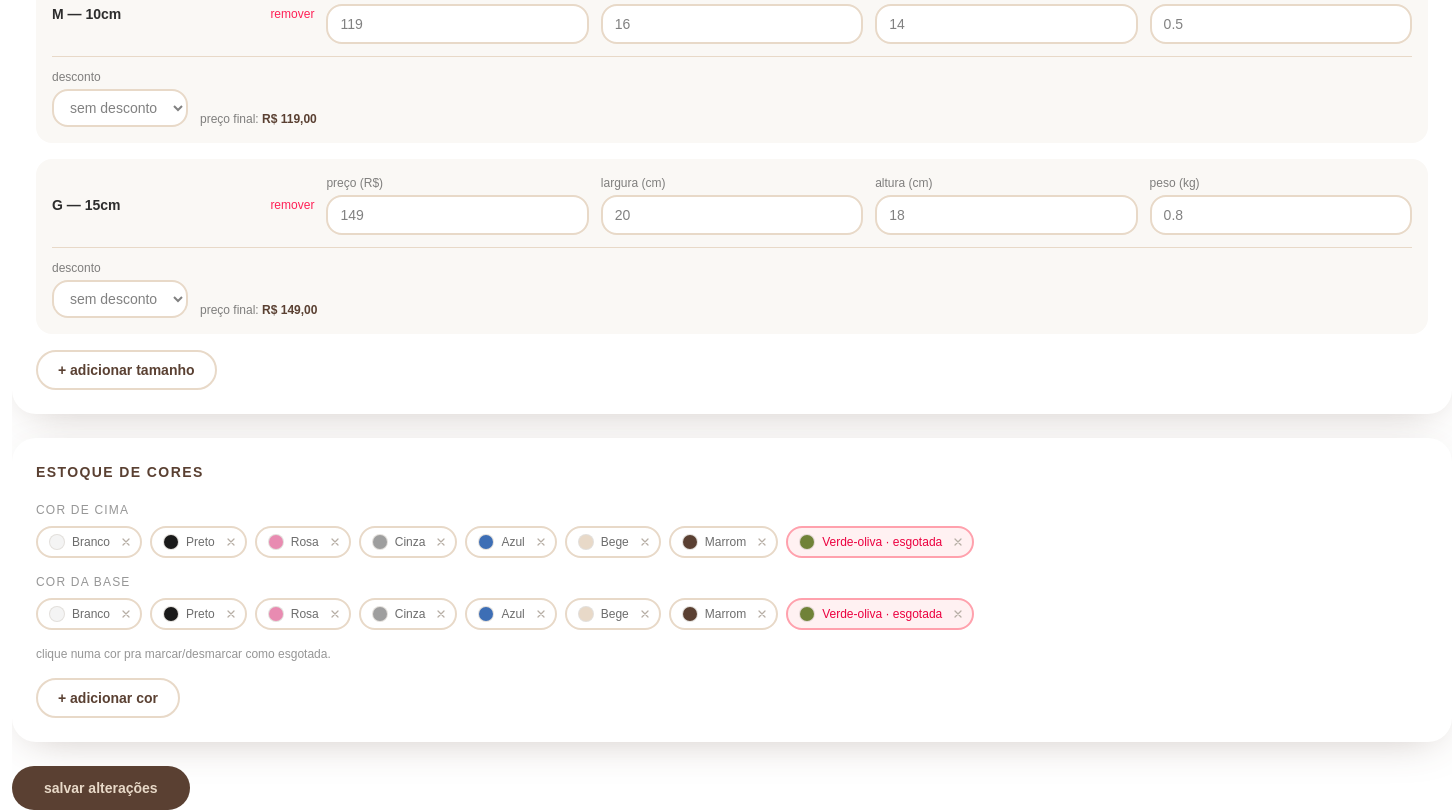
ProdutoForm — cores › clicar numa cor alterna esgotado/disponível (sem fetch, é estado local até salvar)
(page scrolled)
// "Branco" existe 2x (color_base e color_band usam a mesma paleta) — pega a primeira
Click the button "Branco" below "Cor de cima" at (80, 542), box [50, 534, 110, 550]
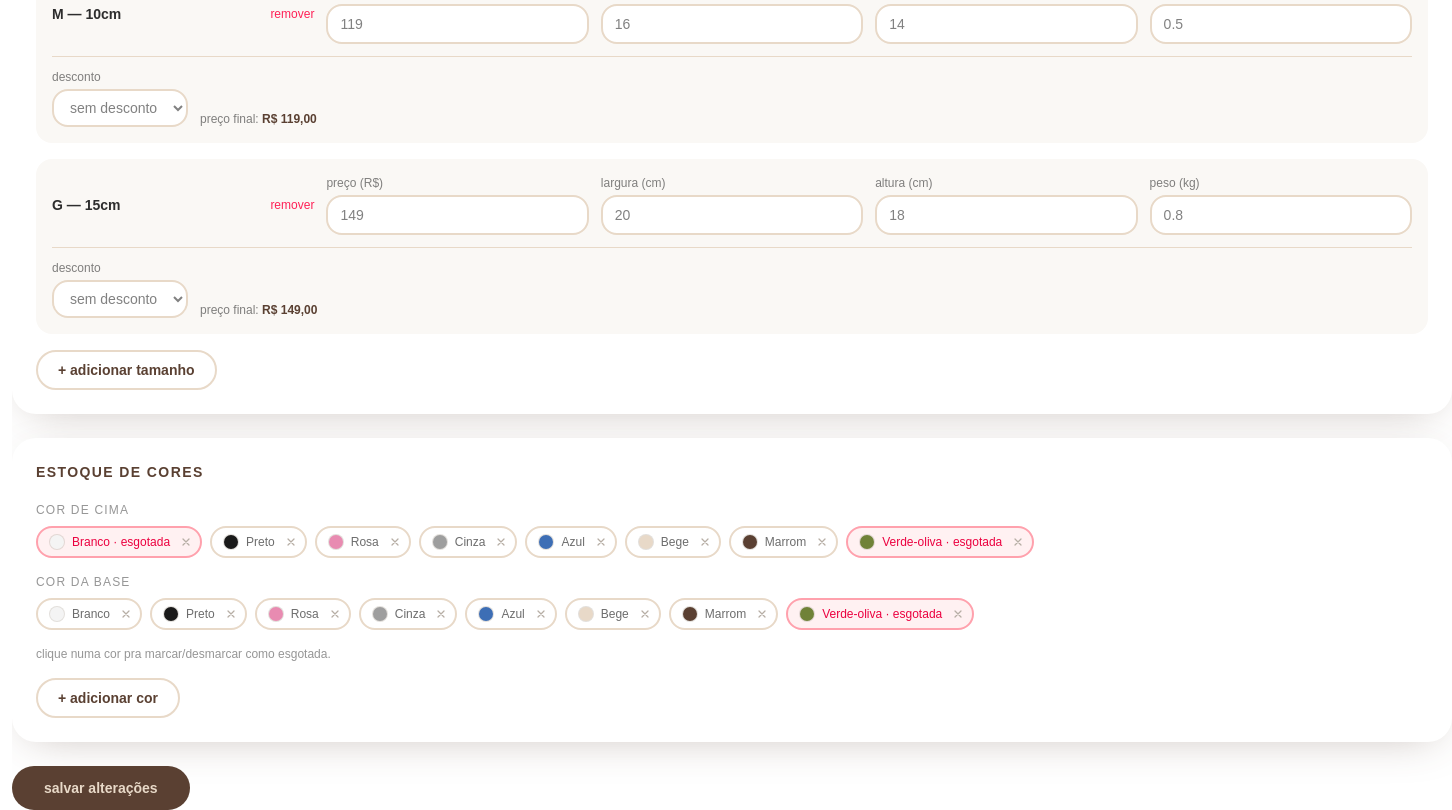
Check: the button "Branco · esgotada" is shown, box [50, 534, 170, 550]
